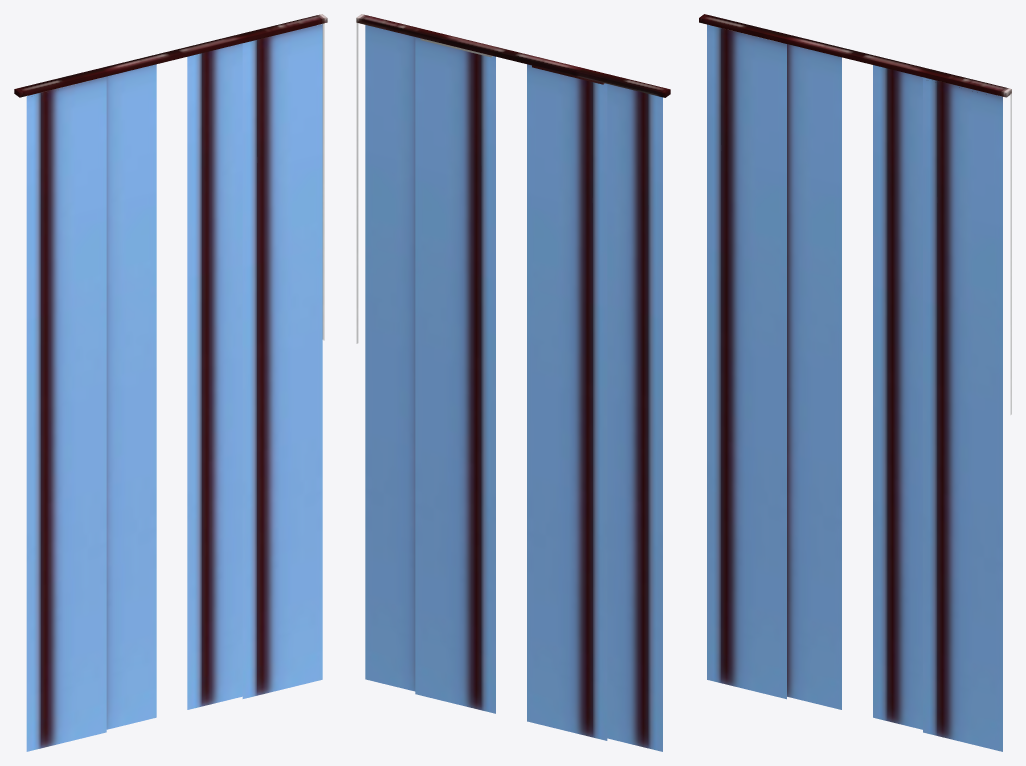
File: be3eb3c6-66af-4051-a758-2485fab904c3.glb
3 views of the same model, side by side, from view 1: azimuth 30°, elevation 25°; view 2: azimuth 150°, elevation 25°; view 3: azimuth 330°, elevation 25° (orthographic).
Parts seen in each view (by area): view 1: curtains.004; view 2: curtains.004; view 3: curtains.004.
Boxes of the visible parts, left/top/right/bottom form: curtains.004: left=14, top=14, right=327, bottom=751; curtains.004: left=356, top=14, right=670, bottom=751; curtains.004: left=699, top=14, right=1011, bottom=751.
Size of what is drawn, in the model's own units: 2 by 4.1 by 0.06.
Materials: 1 (1 with a texture image).
